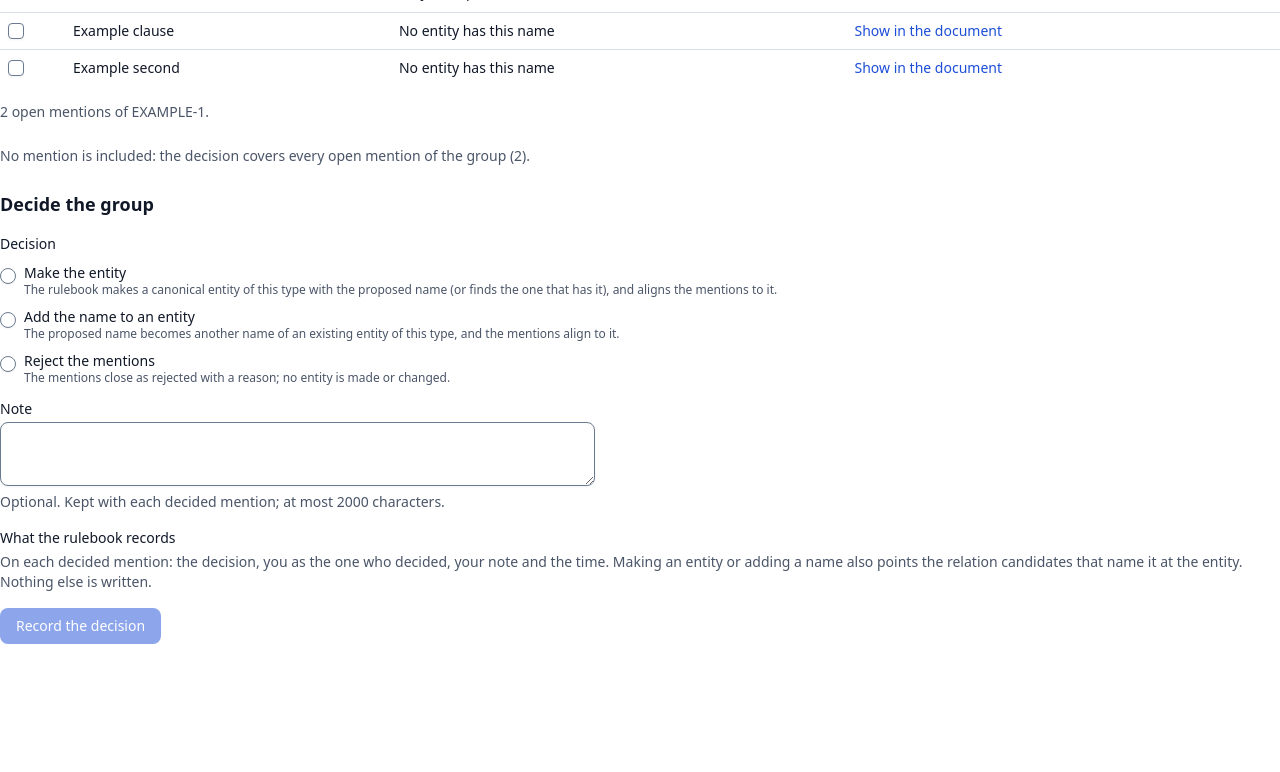
Test: DecisionPanel › shows the rulebook's refusal with its correlation id
Click the radio button named "Make the entity" next to "Make the entity" at (8, 276), box [0,268,16,284]
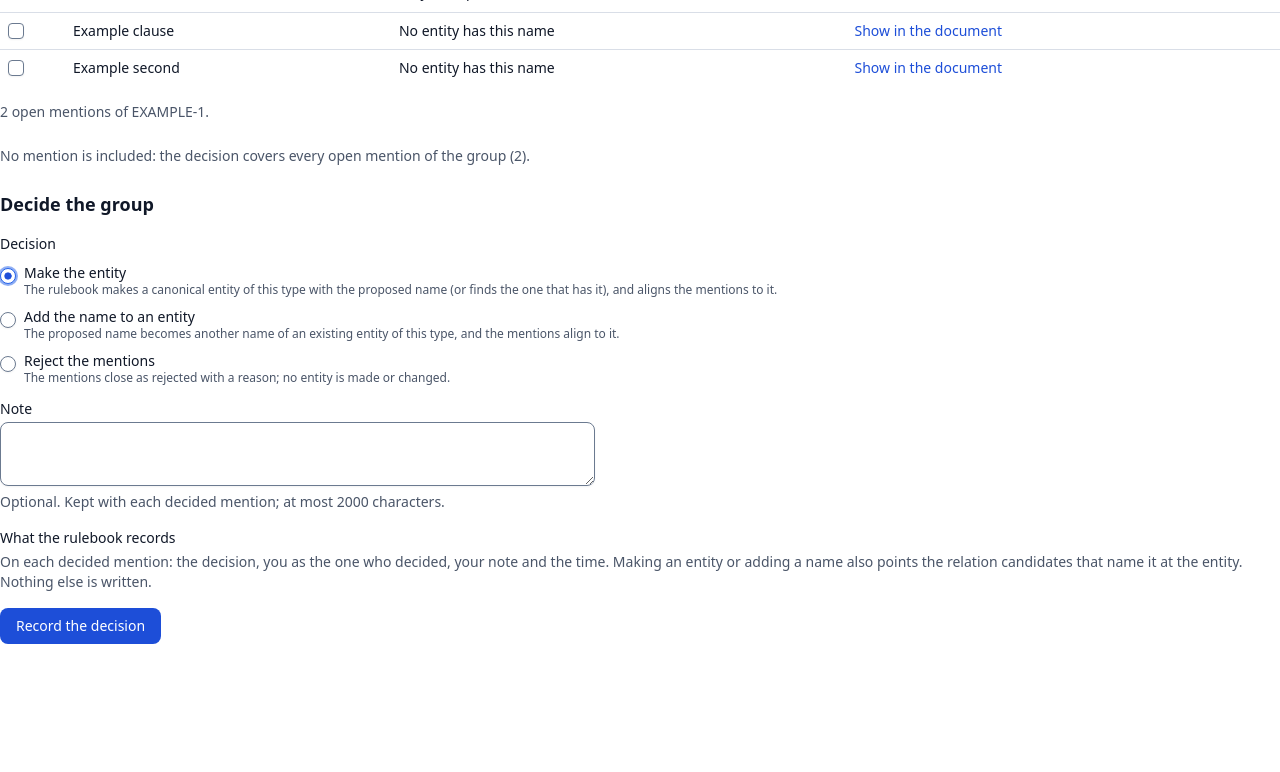
Click the button "Record the decision" at (81, 626), box [0,608,161,644]
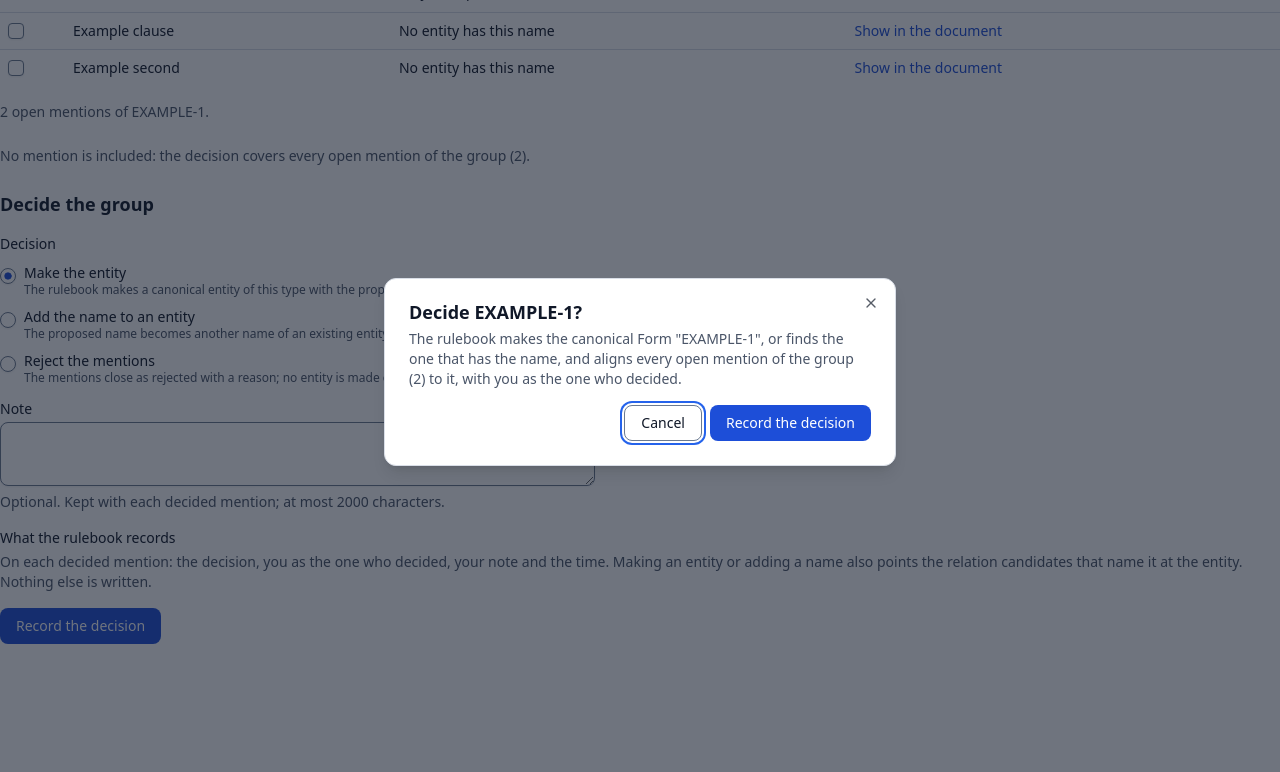
Click the button "Record the decision" at (790, 423), box [710,405,871,441]
(page scrolled)
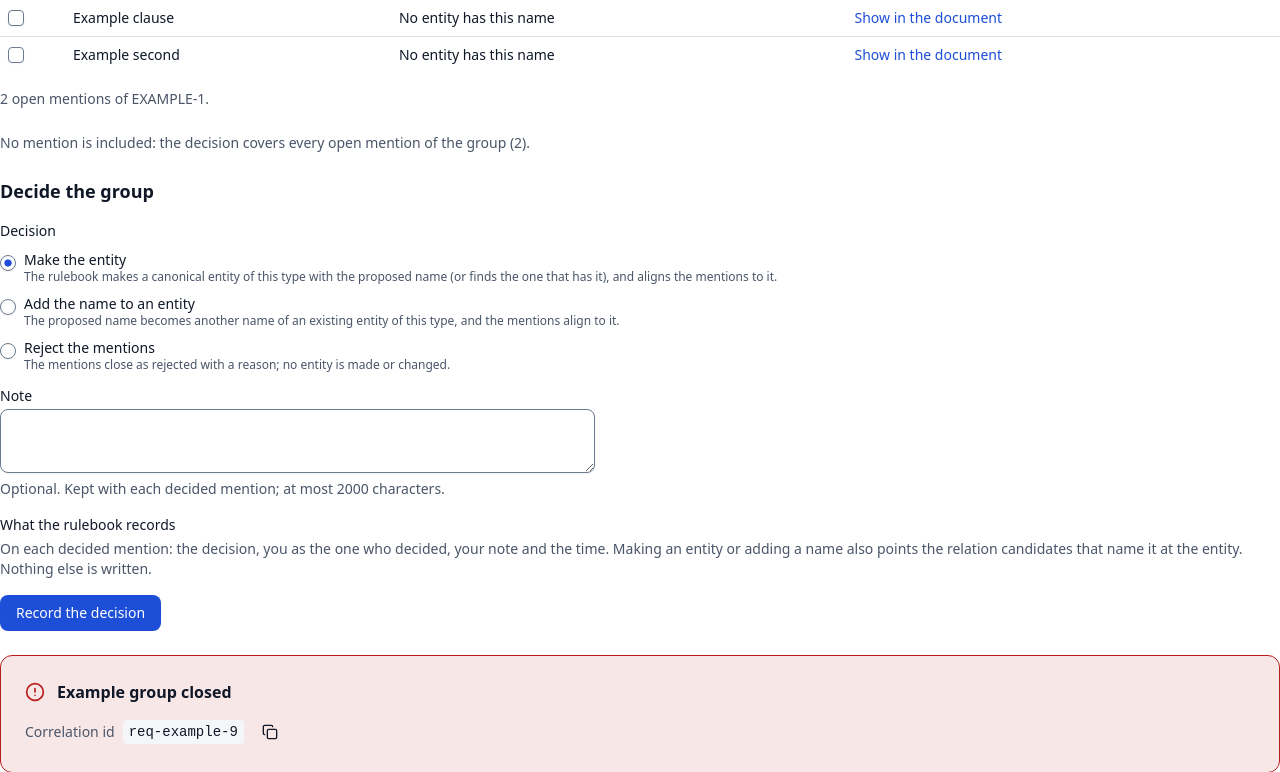
expect the text "Example group closed" is shown: met, box [57,680,232,702]
expect the text "req-example-9" is shown: met, box [123,720,244,744]
